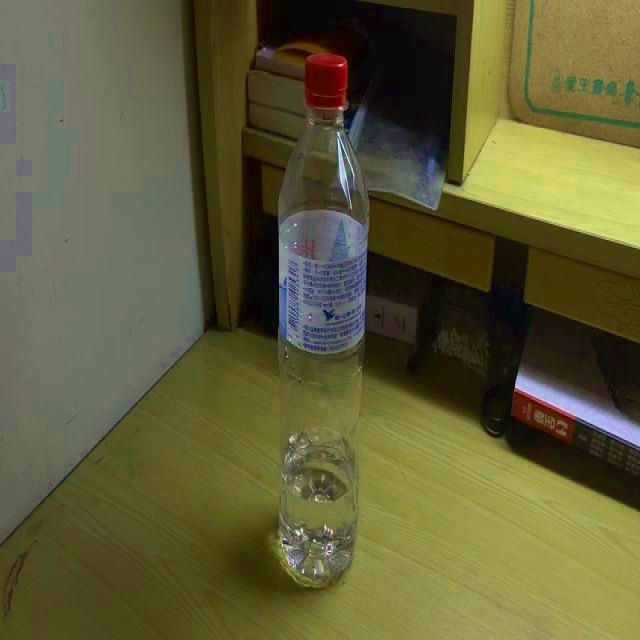Water: (276, 52, 370, 591)
